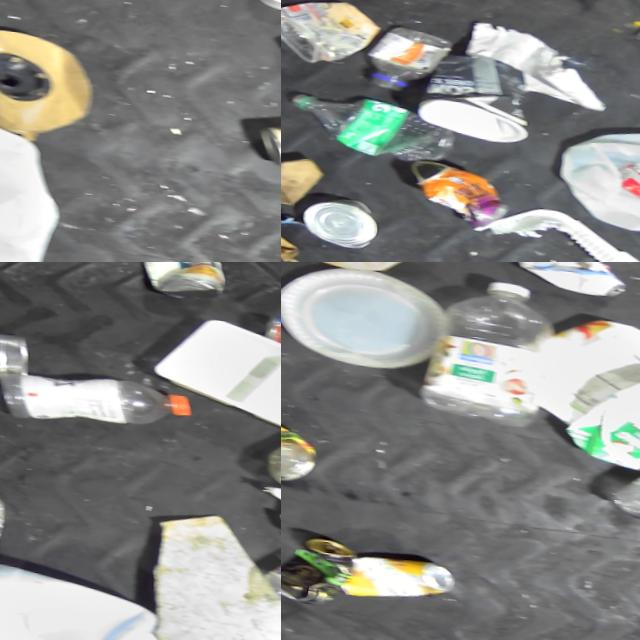can: (338, 548, 454, 605), (288, 189, 383, 249), (281, 527, 352, 606), (281, 409, 327, 491), (137, 262, 237, 295), (249, 103, 281, 169), (254, 296, 281, 360), (0, 323, 31, 377)
milk_jug: (0, 553, 226, 640), (0, 110, 66, 262), (567, 104, 640, 238)
plastic_bottle: (412, 272, 565, 419), (0, 349, 195, 437), (281, 80, 459, 162), (599, 395, 640, 533), (235, 508, 281, 622)
